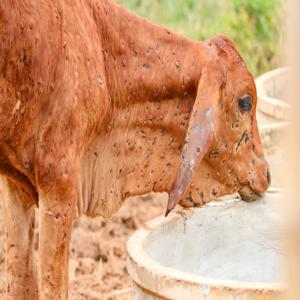lumpy skin diesease: (0, 0, 271, 299)
